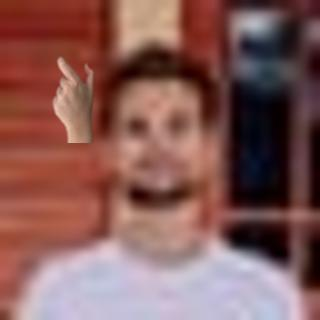Irritated: (48, 49, 98, 136)
